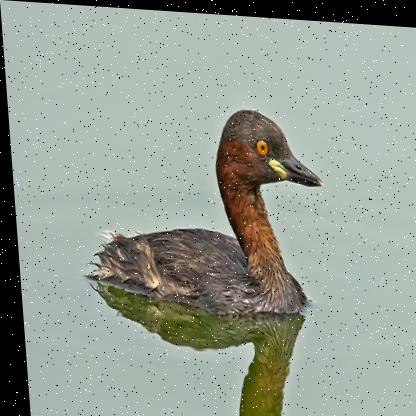Burung: (75, 96, 329, 313)
